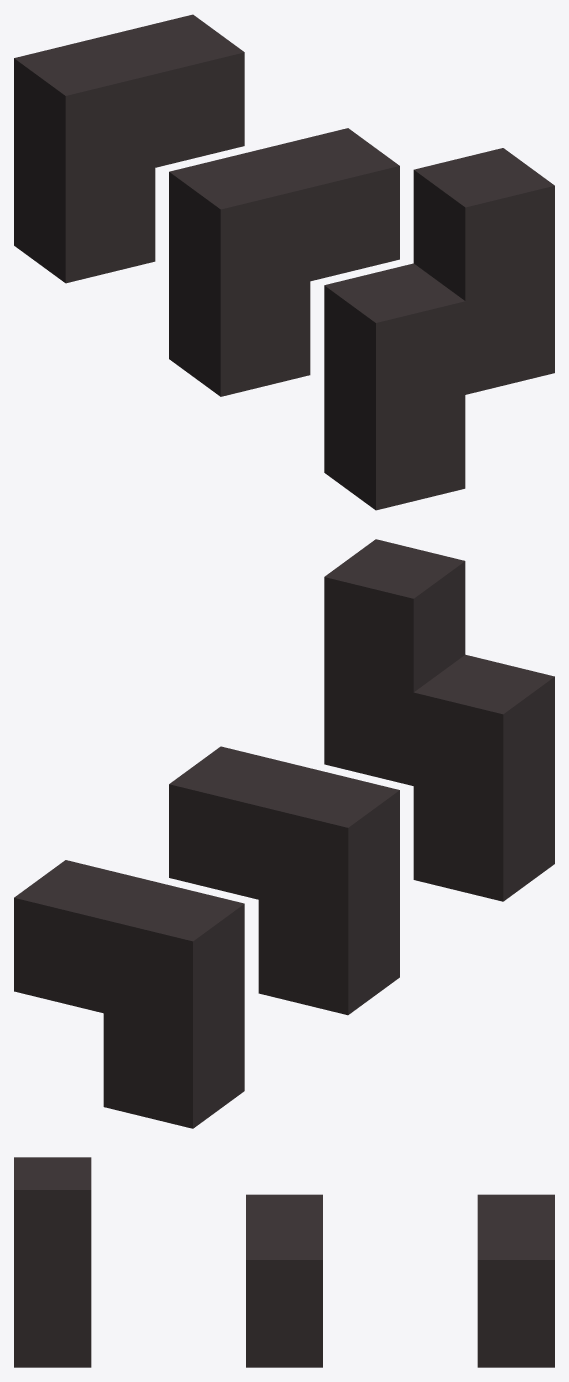
File: bee__leg_r.glb
The picture shows the model from 3 angles, top to bottom: view 1: azimuth 30°, elevation 25°; view 2: azimuth 150°, elevation 25°; view 3: azimuth 270°, elevation 25°; orthographic projection. The views are drawn at different scales.
Parts seen in each view (by area): view 1: bee__leg_r; view 2: bee__leg_r; view 3: bee__leg_r.
Boxes of the visible parts, x1,y1,x2,y2 form: bee__leg_r: (14,14,554,510); bee__leg_r: (14,539,554,1128); bee__leg_r: (14,1157,554,1367).
Bounding box in the file's own units: 0.2 × 0.3 × 0.7.
Materials: 1 (1 with a texture image).
